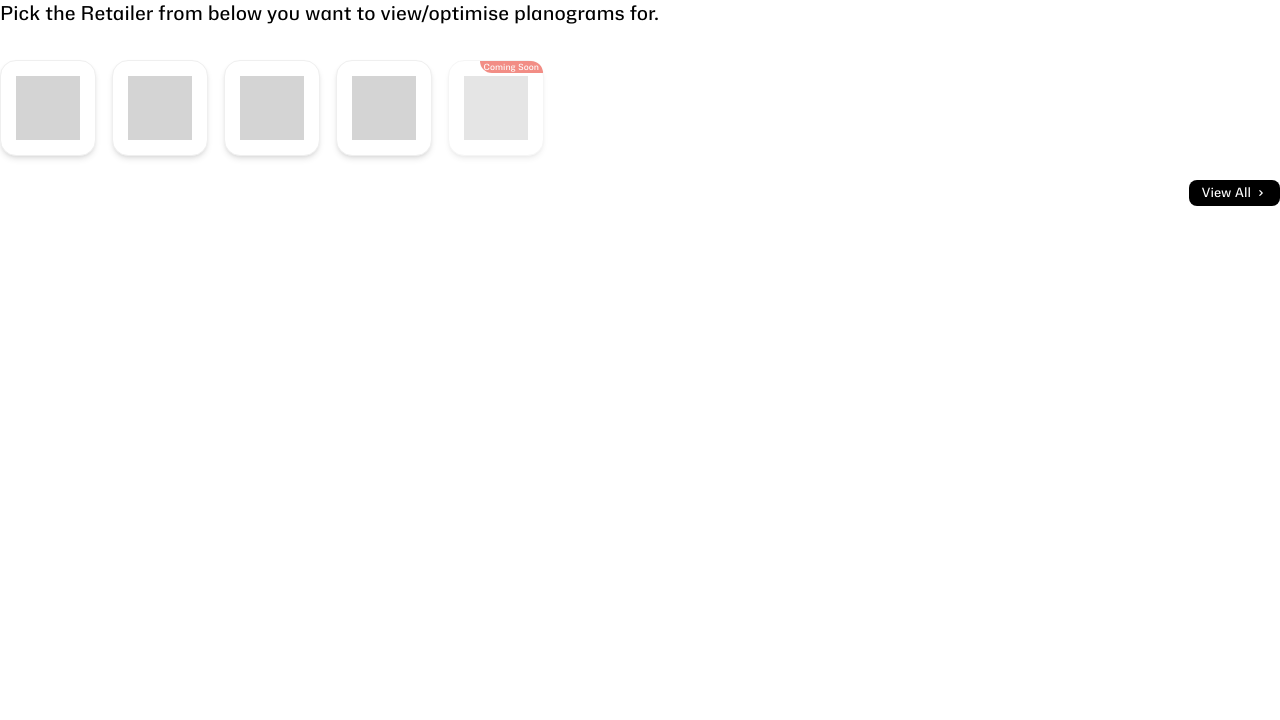
RetailerSelector › Modal Functionality › opens the modal to view all retailers and selects from there
Click the button with aria-label "view all retailers in north america": (1234, 193) [1189, 180, 1279, 206]
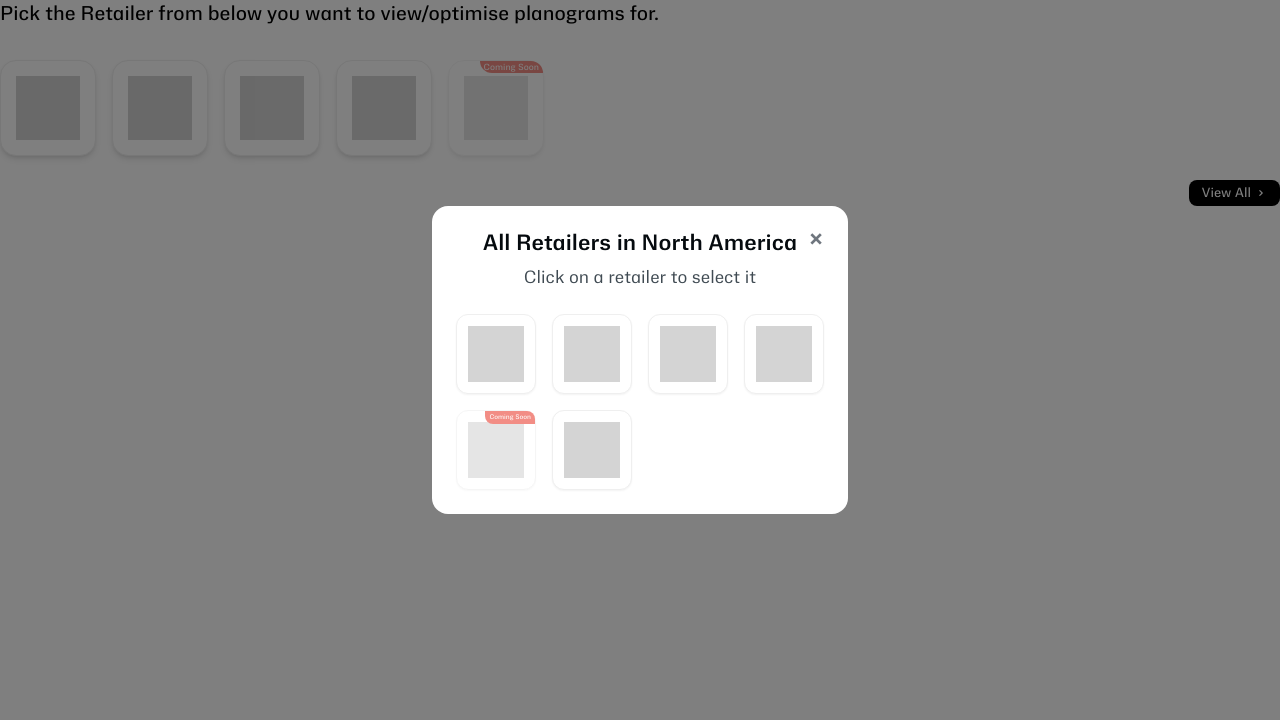
Expected: the heading "All Retailers in North America" is shown, [456, 230, 824, 258]
Click the 2nd button with alt text "London Drugs": (592, 354) [552, 314, 632, 394]
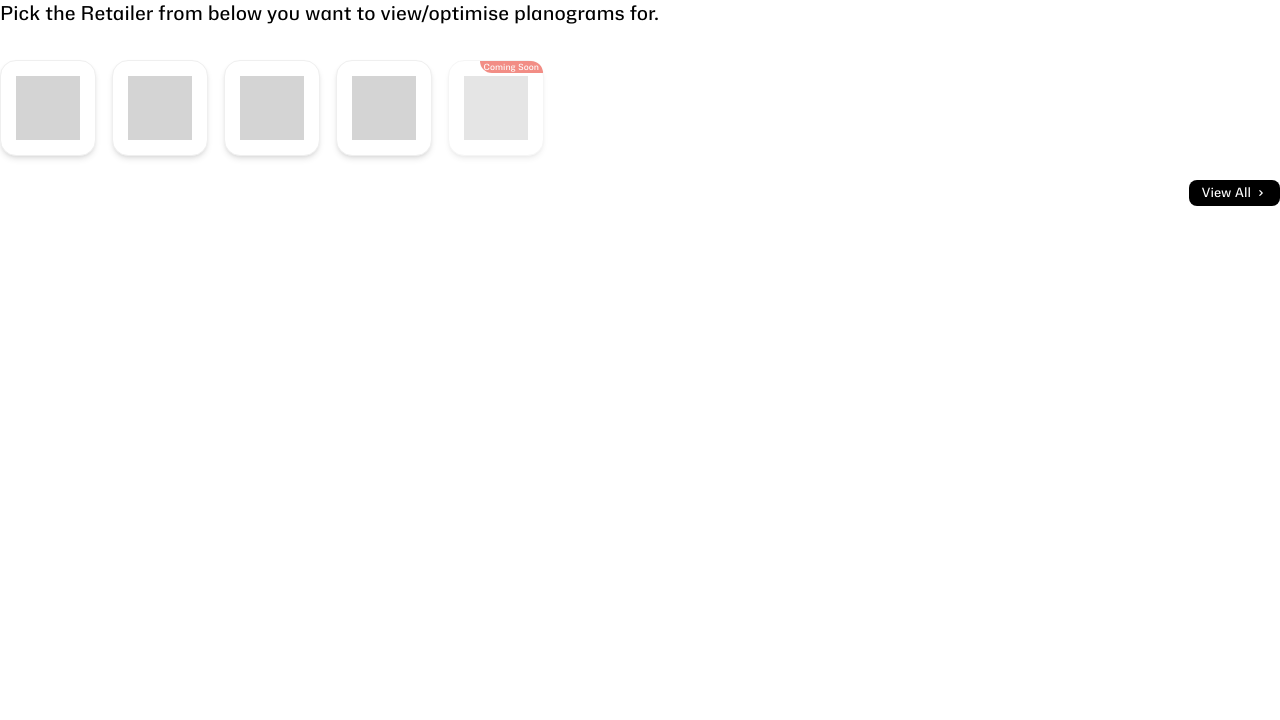
Expected: the heading "All Retailers in North America" is gone
